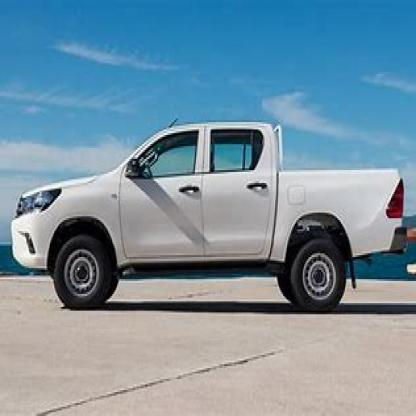light_vehicle: (7, 111, 411, 314)
